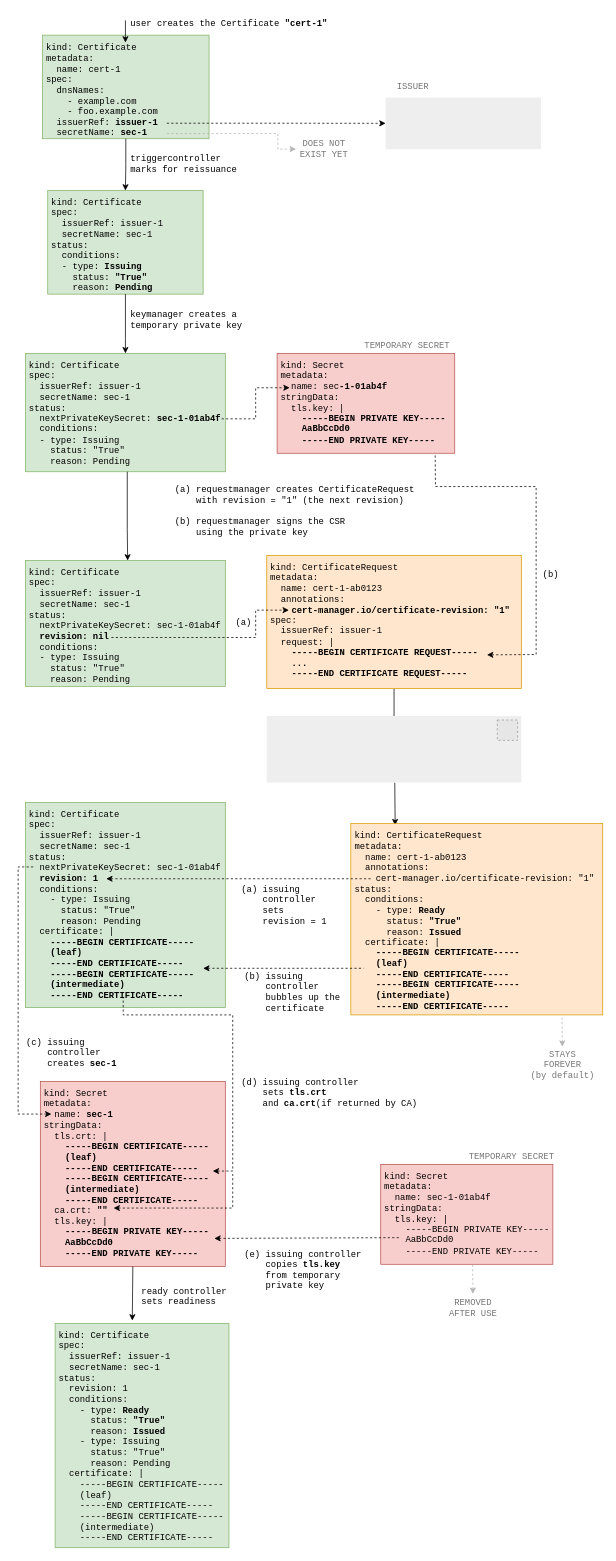
The diagram is 616 pixels wide and 1561 high, and some of its shapes have lost their labels. Grey dashed boxes stand in for pictures. Here are the shapes that lost their labels. From the top down, the box of each, then its label:
(385, 97, 541, 149): kind: Issuer metadata: name: issuer-1 spec: ...
(266, 716, 521, 782): CertificateRequest Flow [1]
